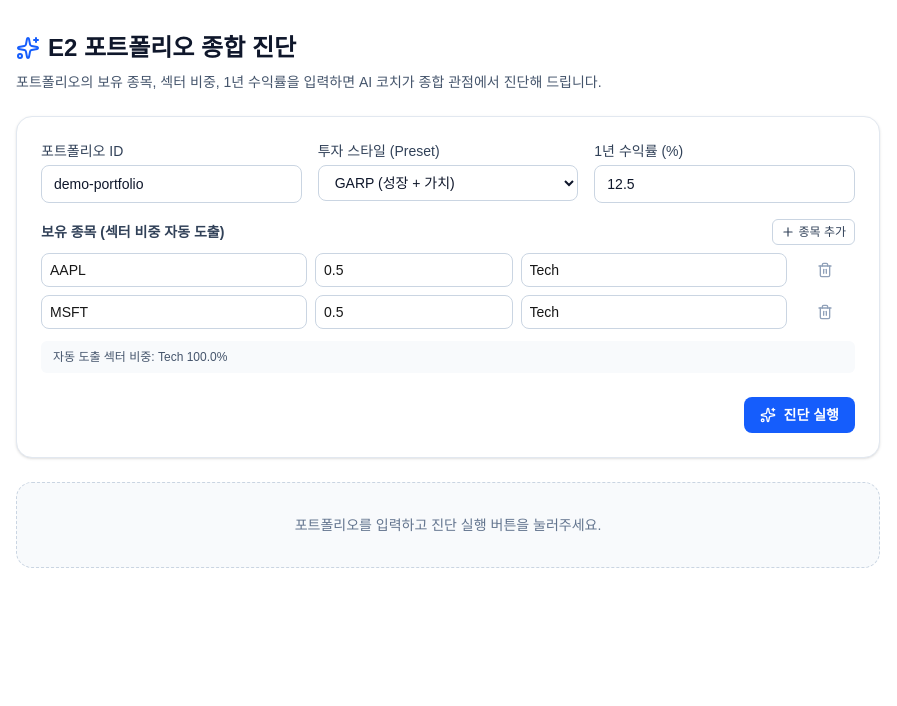
E2 coach page (E2CoachContent) › happy-path: 제출 → CommentaryCard에 summary + quoted_metrics 렌더
Click the button "진단 실행": (799, 415) [744,397,855,433]
(page scrolled)
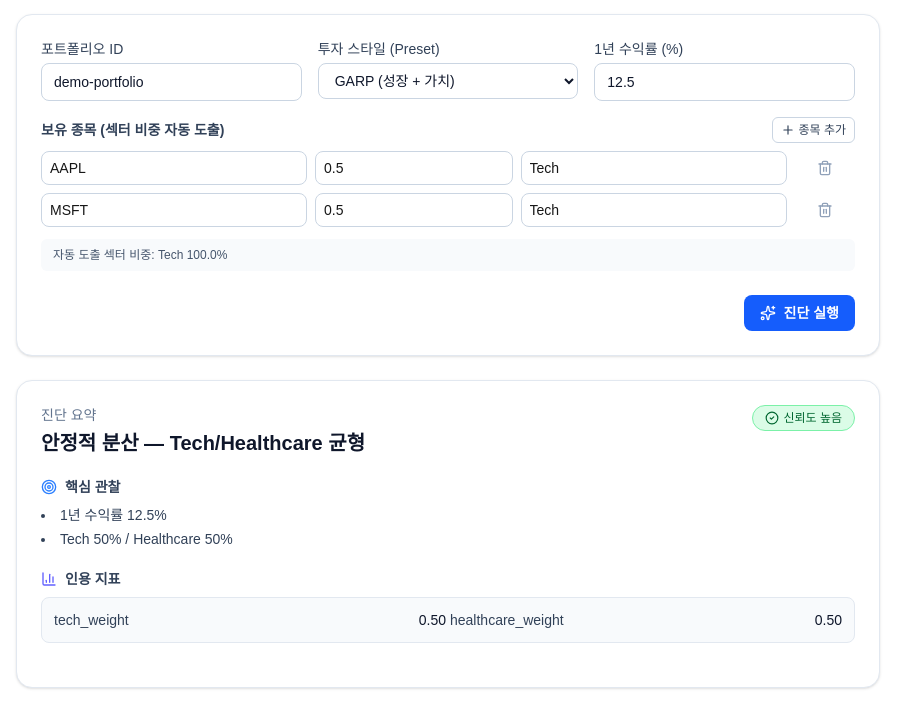
Now the element with test id "commentary-card" is shown, box [16,380,880,688]
Now the heading "안정적 분산 — Tech/Healthcare 균형" is shown, box [41,429,365,457]
Now the heading "인용 지표" is shown, box [41,571,120,587]
